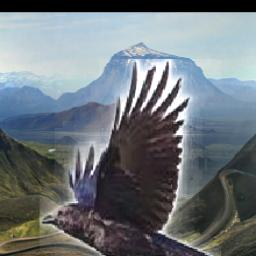Crow: (40, 59, 221, 256)
